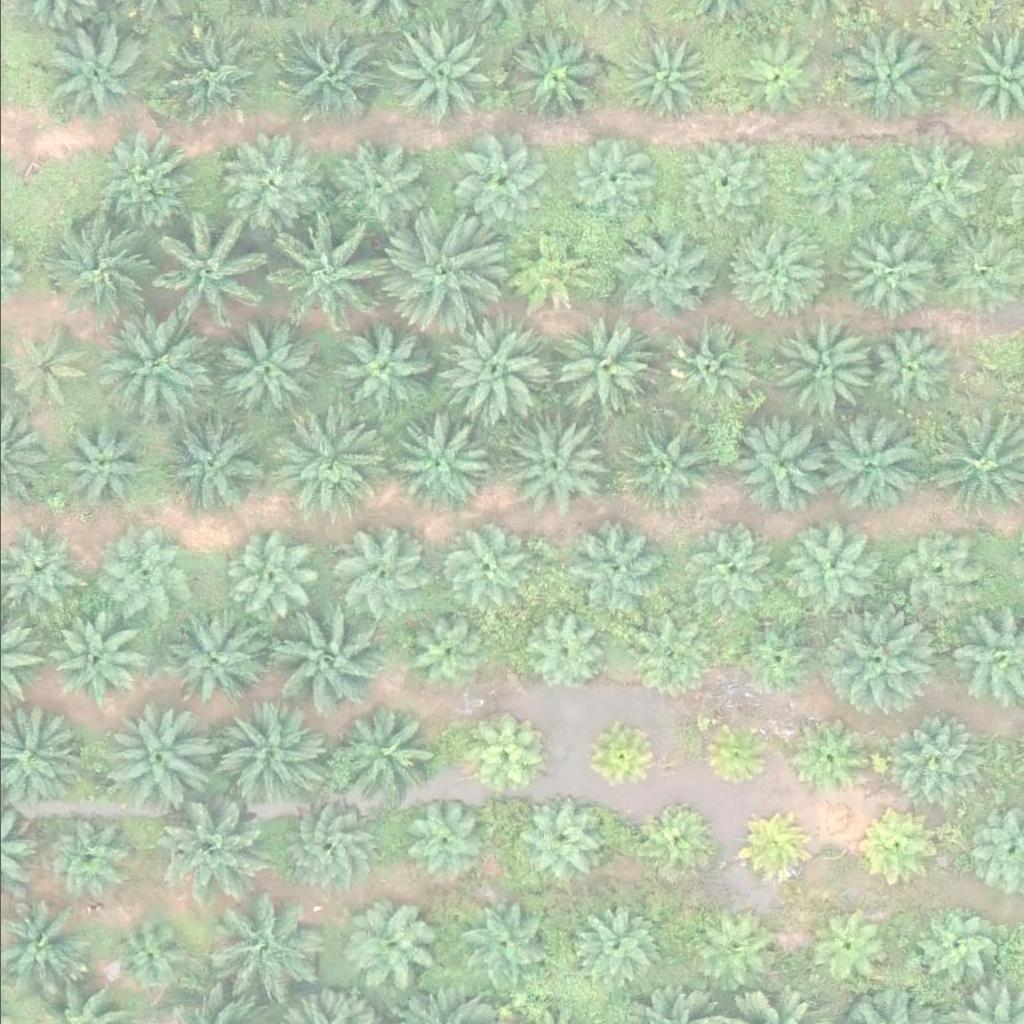Kelapa_Sawit: (103, 695, 217, 808), (374, 404, 487, 517), (265, 405, 378, 518), (208, 315, 321, 428), (823, 603, 936, 716), (382, 214, 495, 327), (207, 698, 321, 810), (163, 792, 276, 904), (269, 596, 382, 708), (430, 316, 543, 428), (92, 313, 205, 425), (383, 9, 496, 121), (257, 216, 370, 328), (139, 216, 252, 328), (41, 211, 154, 323), (208, 889, 309, 989), (332, 702, 433, 802), (164, 605, 265, 705), (327, 526, 428, 626), (507, 415, 608, 515), (327, 322, 428, 422), (217, 139, 318, 239), (98, 126, 199, 226), (153, 22, 254, 122), (815, 411, 916, 511), (732, 416, 833, 516), (559, 316, 660, 416), (615, 415, 716, 515), (563, 522, 664, 622), (767, 318, 868, 418), (730, 222, 831, 322), (839, 27, 940, 127), (343, 896, 443, 996), (275, 794, 375, 894), (325, 143, 425, 243), (501, 27, 601, 127), (272, 24, 372, 124), (40, 24, 140, 124), (613, 223, 713, 323), (885, 139, 985, 239), (159, 416, 260, 515), (568, 131, 657, 219), (104, 910, 192, 998), (513, 791, 601, 879), (44, 617, 132, 705), (441, 517, 529, 605), (733, 613, 821, 701), (615, 613, 703, 701), (805, 899, 893, 987), (682, 904, 770, 992), (777, 523, 865, 611), (685, 524, 773, 612), (869, 326, 957, 414), (784, 134, 872, 222), (680, 138, 768, 226), (617, 40, 705, 128), (455, 896, 544, 983), (397, 793, 485, 880), (35, 815, 123, 902), (517, 609, 605, 696), (393, 606, 481, 693), (110, 529, 198, 616), (225, 532, 313, 619), (59, 423, 147, 510), (464, 138, 552, 225), (907, 902, 995, 989), (573, 903, 661, 990), (897, 717, 985, 804), (888, 529, 976, 616), (663, 321, 751, 408), (839, 230, 927, 317), (730, 34, 818, 121), (503, 229, 591, 316), (639, 798, 715, 873), (459, 715, 535, 790), (586, 720, 662, 795), (735, 813, 811, 888), (794, 723, 869, 798), (697, 715, 772, 790), (858, 813, 933, 888)
